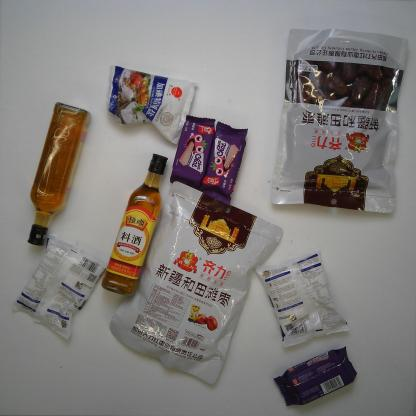Dessert: (270, 344, 362, 409), (198, 120, 248, 208), (168, 112, 218, 188)
Dried Food: (105, 180, 290, 389), (271, 25, 409, 219)
Seasoner: (3, 231, 112, 344), (98, 150, 170, 300), (253, 245, 353, 350), (24, 99, 91, 248), (101, 61, 203, 150)
